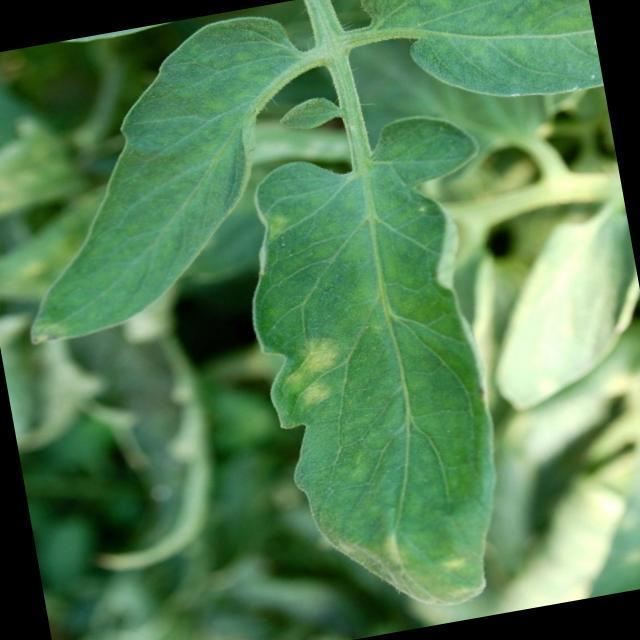Mosaic Virus: (241, 182, 383, 468)
